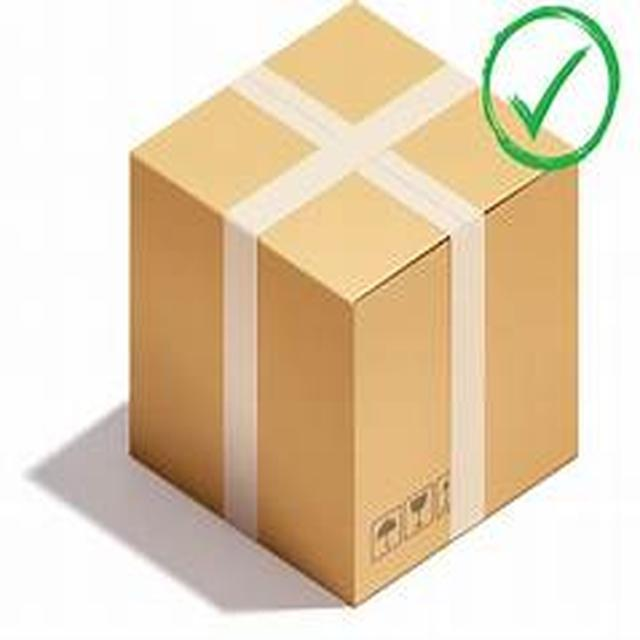box: (85, 18, 592, 605)
